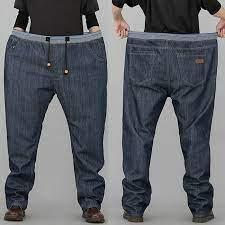pants: (6, 31, 107, 213), (122, 31, 219, 217)
